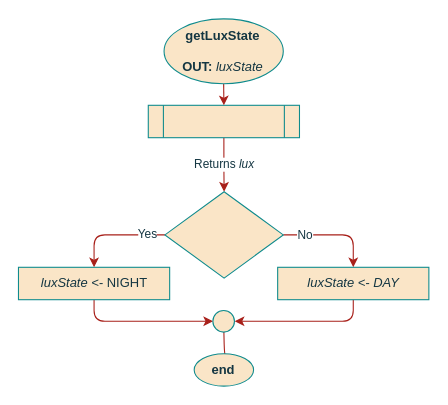
This 448x405 diagram has some shape labels left out. Each missing label, with the box of its shape:
getLux(): (147, 104, 299, 138)
lux bellow day light level?: (164, 191, 283, 278)
